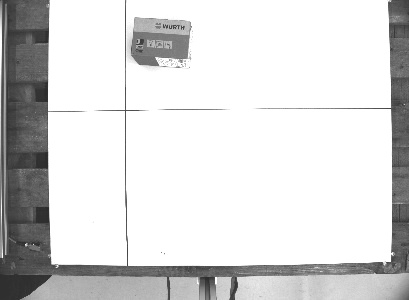b4: (128, 14, 194, 70)
